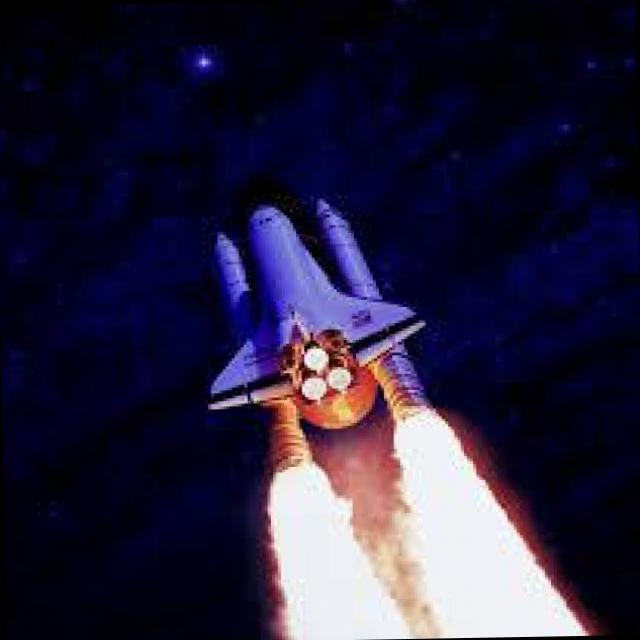rocket: (198, 191, 474, 563)
